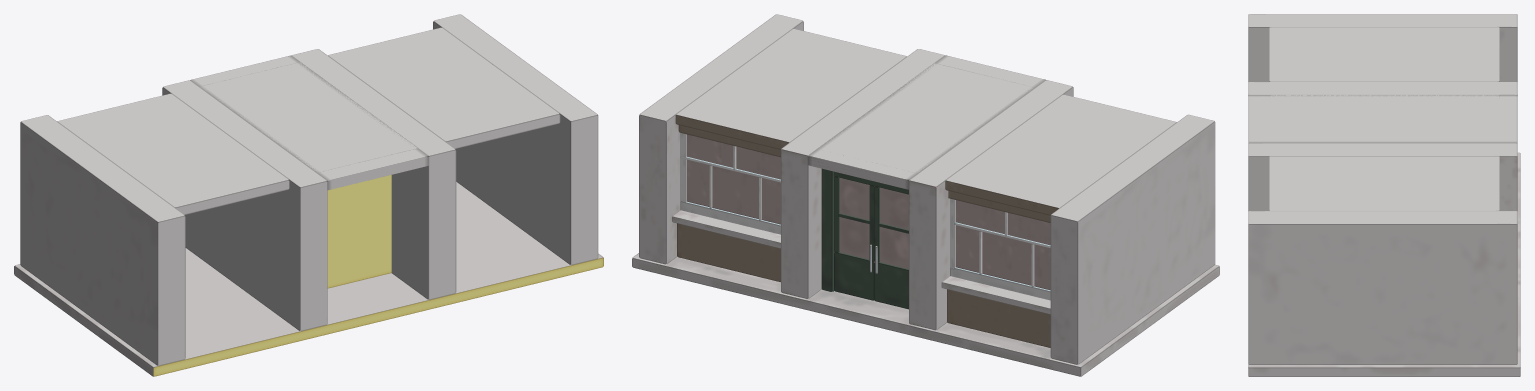
File: AptBuilding01_Door.fbx
3 renders of one model, left to right at view 1: azimuth 30°, elevation 25°; view 2: azimuth 150°, elevation 25°; view 3: azimuth 270°, elevation 25°, orthographic. The views are drawn at different scales.
Visible parts, largest first — view 1: cuboid_2, cuboid_33, cuboid_1, cuboid_31, cuboid_11, cuboid_12, cuboid_47, cuboid_30, cuboid_32, cuboid_34; view 2: cuboid_2, cuboid_47, cuboid_12, cuboid_11, cuboid_33, cuboid_1, cuboid_31, cuboid_30, cuboid_29, cuboid_27, cuboid_34, cuboid_32 (+11 smaller); view 3: cuboid_1, cuboid_47, cuboid_11, cuboid_12, cuboid_30, cuboid_2, cuboid_33, cuboid_31, cuboid_32.
Part boxes in pixels (x1=…): cuboid_2: x1=20, y1=115, x2=185, y2=365; cuboid_33: x1=14, y1=182, x2=603, y2=376; cuboid_1: x1=433, y1=14, x2=598, y2=264; cuboid_31: x1=162, y1=80, x2=327, y2=331; cuboid_11: x1=328, y1=27, x2=560, y2=148; cuboid_12: x1=57, y1=93, x2=289, y2=214; cuboid_47: x1=190, y1=55, x2=428, y2=190; cuboid_30: x1=291, y1=49, x2=456, y2=299; cuboid_32: x1=200, y1=62, x2=417, y2=172; cuboid_34: x1=327, y1=175, x2=391, y2=288; cuboid_2: x1=1050, y1=114, x2=1215, y2=364; cuboid_47: x1=808, y1=55, x2=1045, y2=189; cuboid_12: x1=945, y1=94, x2=1176, y2=215; cuboid_11: x1=675, y1=28, x2=906, y2=149; cuboid_33: x1=632, y1=253, x2=1219, y2=376; cuboid_1: x1=639, y1=14, x2=803, y2=264; cuboid_31: x1=909, y1=80, x2=1073, y2=330; cuboid_30: x1=781, y1=49, x2=944, y2=298; cuboid_29: x1=955, y1=200, x2=1050, y2=290; cuboid_27: x1=686, y1=134, x2=780, y2=224; cuboid_34: x1=838, y1=177, x2=936, y2=268; cuboid_32: x1=820, y1=63, x2=1032, y2=180; cuboid_1: x1=1248, y1=211, x2=1517, y2=364; cuboid_47: x1=1248, y1=95, x2=1517, y2=143; cuboid_11: x1=1269, y1=156, x2=1499, y2=210; cuboid_12: x1=1269, y1=27, x2=1499, y2=81; cuboid_30: x1=1248, y1=143, x2=1517, y2=211; cuboid_2: x1=1248, y1=14, x2=1517, y2=81; cuboid_33: x1=1248, y1=152, x2=1520, y2=376; cuboid_31: x1=1248, y1=82, x2=1517, y2=96; cuboid_32: x1=1269, y1=95, x2=1499, y2=135.
Size of the model in its own units: 307 by 100 by 164.
1 material, 1 textured.
